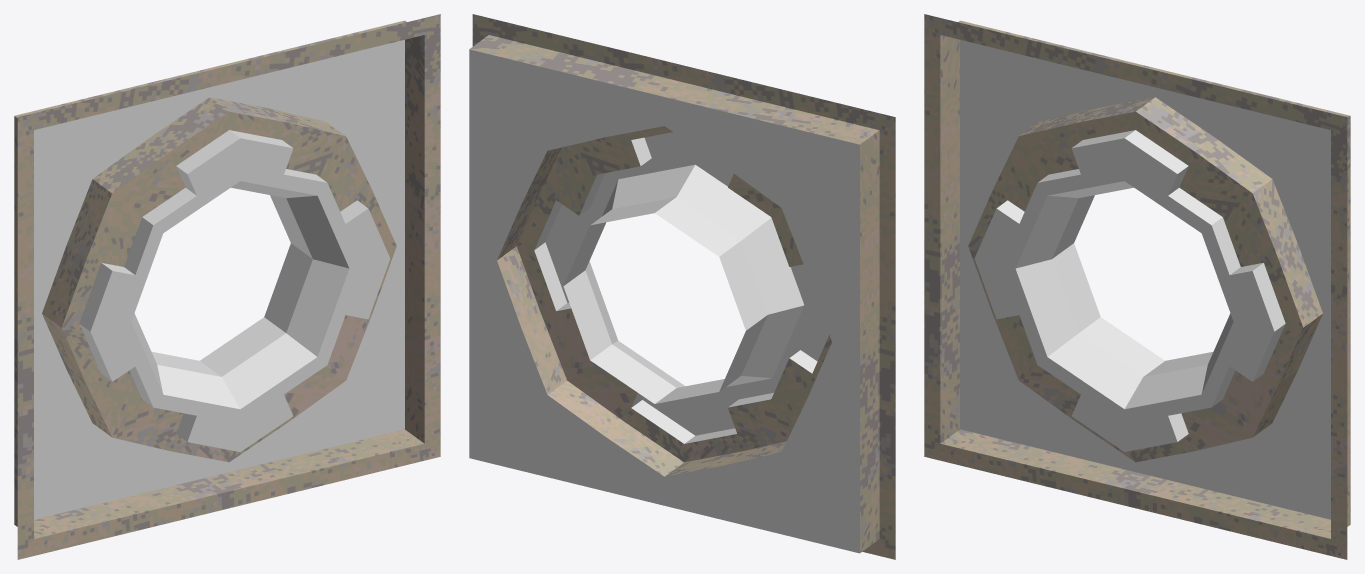
File: Door.fbx
3 views of the same model, side by side, from view 1: azimuth 30°, elevation 25°; view 2: azimuth 150°, elevation 25°; view 3: azimuth 330°, elevation 25° (orthographic).
Visible parts, largest first — view 1: Door; view 2: Door; view 3: Door.
Part boxes in pixels (box(x1,y1,x2,y2)): Door: box(14, 14, 440, 559); Door: box(469, 14, 895, 559); Door: box(924, 14, 1350, 559).
Size of the model in its own units: 200 by 200 by 33.39.
